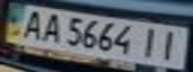4: (112, 22, 139, 56)
5: (60, 15, 84, 47)
6: (78, 18, 100, 51), (97, 20, 118, 53)
A: (15, 7, 48, 40), (36, 11, 66, 44)
I: (154, 28, 187, 62), (136, 25, 163, 60)
